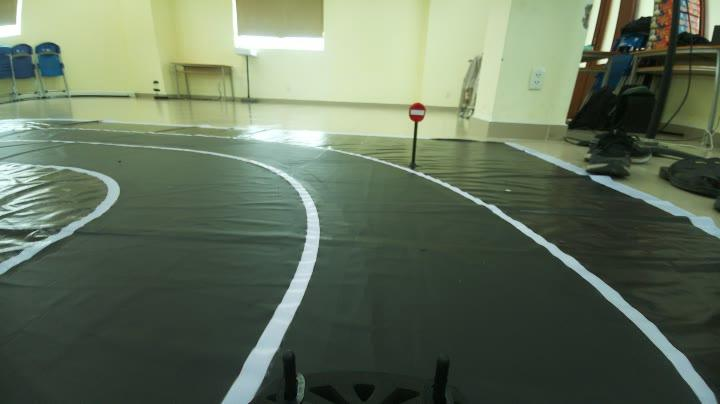no_entry: (407, 101, 428, 124)
